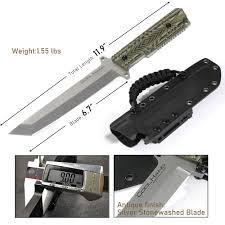Knife: (10, 6, 191, 135)
